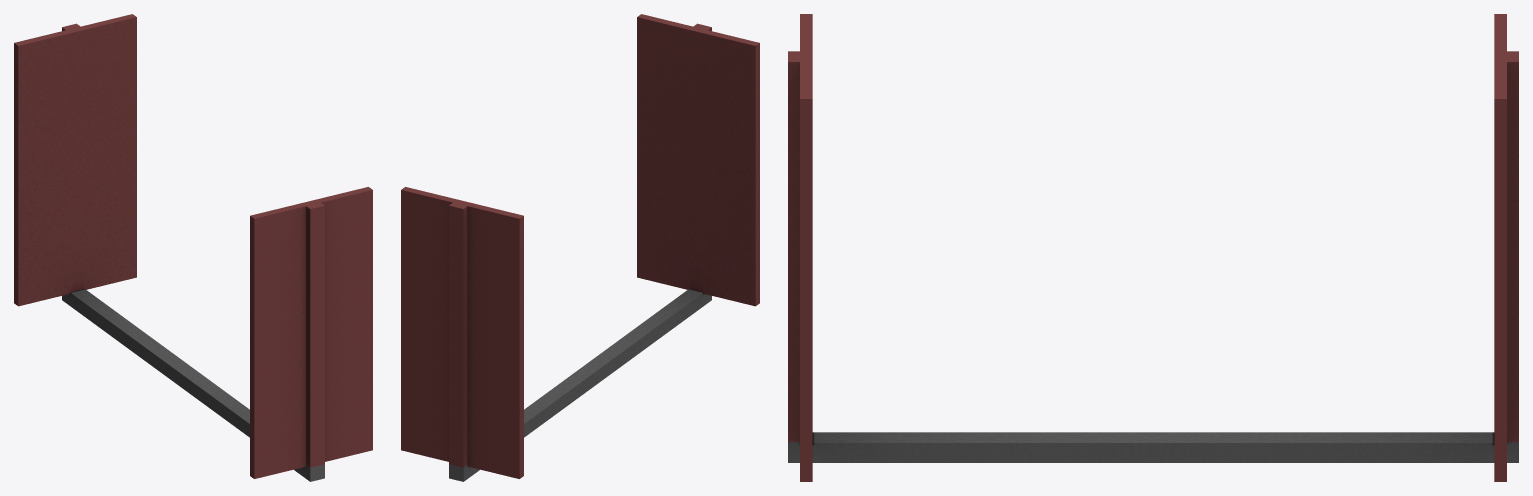
Rendered from red_sidesteel_bridge_skinny.obj.
3 renders of one model, left to right at view 1: azimuth 30°, elevation 25°; view 2: azimuth 150°, elevation 25°; view 3: azimuth 270°, elevation 25°, orthographic. The views are drawn at different scales.
Parts seen in each view (by area): view 1: RAIL_BASE_Plane.001; view 2: RAIL_BASE_Plane.001; view 3: RAIL_BASE_Plane.001.
Part boxes in pixels (x1,y1,x2,y2): RAIL_BASE_Plane.001: (14, 14, 372, 481); RAIL_BASE_Plane.001: (401, 14, 759, 481); RAIL_BASE_Plane.001: (788, 14, 1518, 481).
Size of the model in its own units: 1 by 2.2 by 3.63.
Materials: 1 (1 with a texture image).
